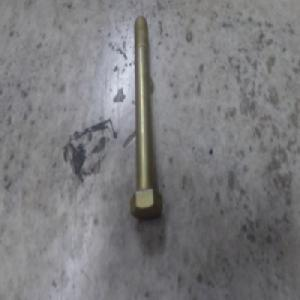Bolt: (128, 15, 163, 219)
